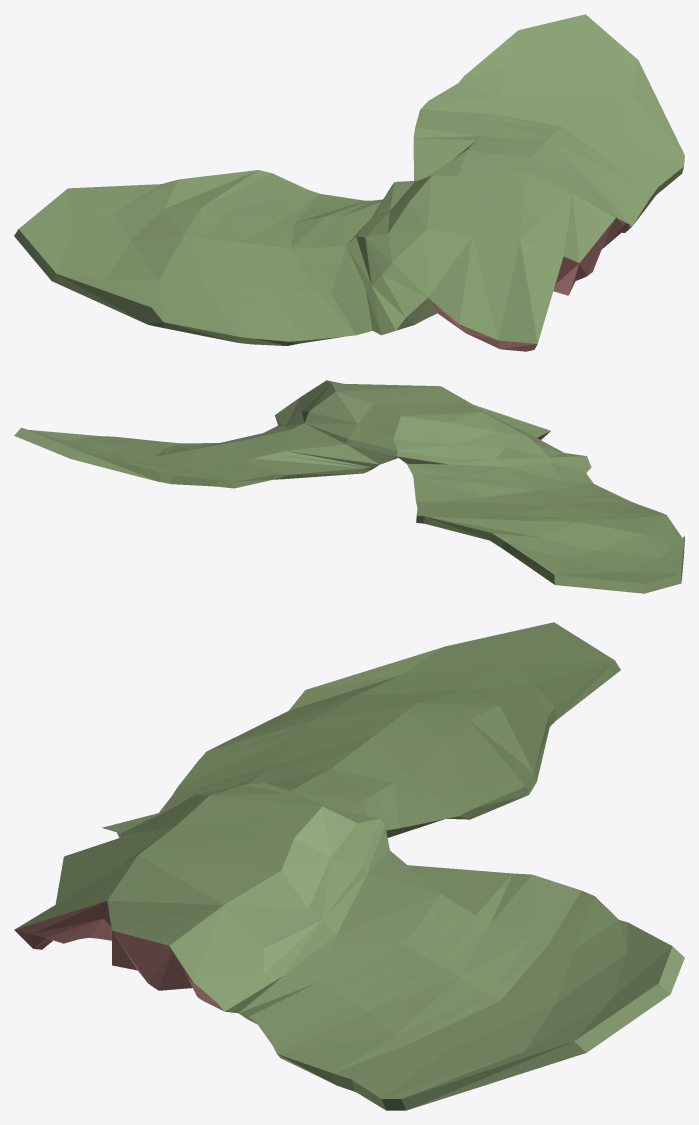
Rendered from flower_petal_1_b.obj.
3 views of the same model, one above another, from view 1: azimuth 30°, elevation 25°; view 2: azimuth 150°, elevation 25°; view 3: azimuth 270°, elevation 25° (orthographic). The views are drawn at different scales.
Parts seen in each view (by area): view 1: flower_petal_1_b_Material; view 2: flower_petal_1_b_Material; view 3: flower_petal_1_b_Material.
Boxes of the visible parts, <box> form: flower_petal_1_b_Material: <box>14,14,684,351</box>; flower_petal_1_b_Material: <box>14,380,684,593</box>; flower_petal_1_b_Material: <box>14,622,684,1110</box>.
Bounding box in the file's own units: 0.1683 × 0.0282 × 0.1087.
